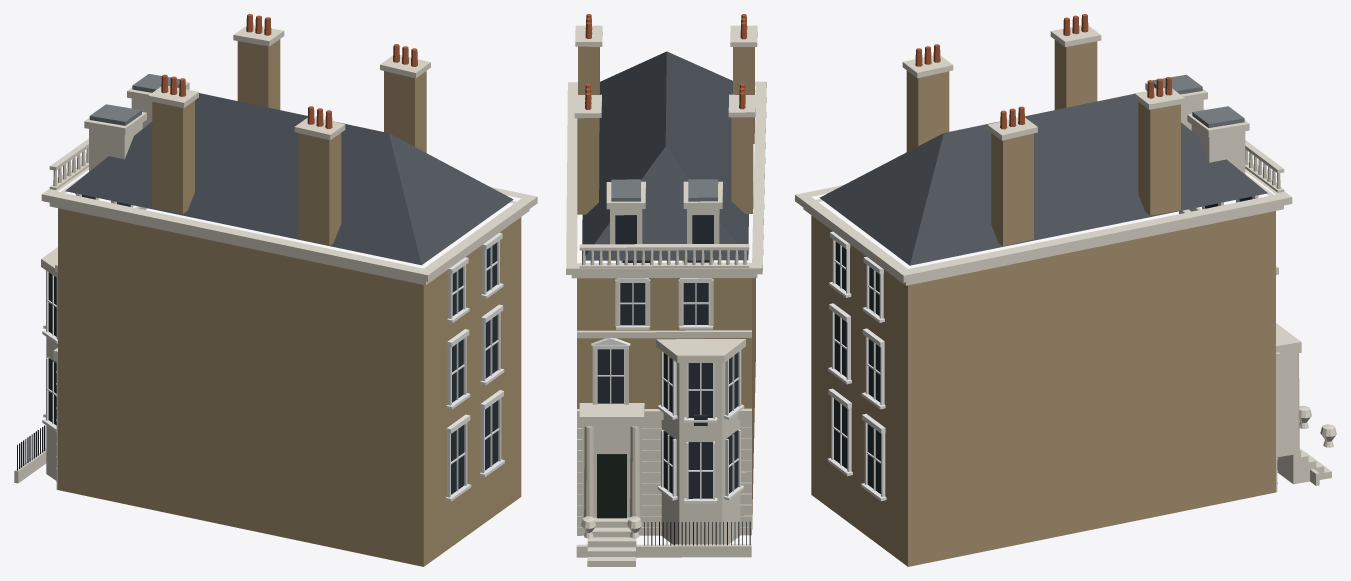
The model's file is linley_sambourne_house.glb.
3 renders of one model, left to right at view 1: azimuth 30°, elevation 25°; view 2: azimuth 150°, elevation 25°; view 3: azimuth 270°, elevation 25°, orthographic. The views are drawn at different scales.
Size of the model in its own units: 14.12 by 16.6 by 18.29.
